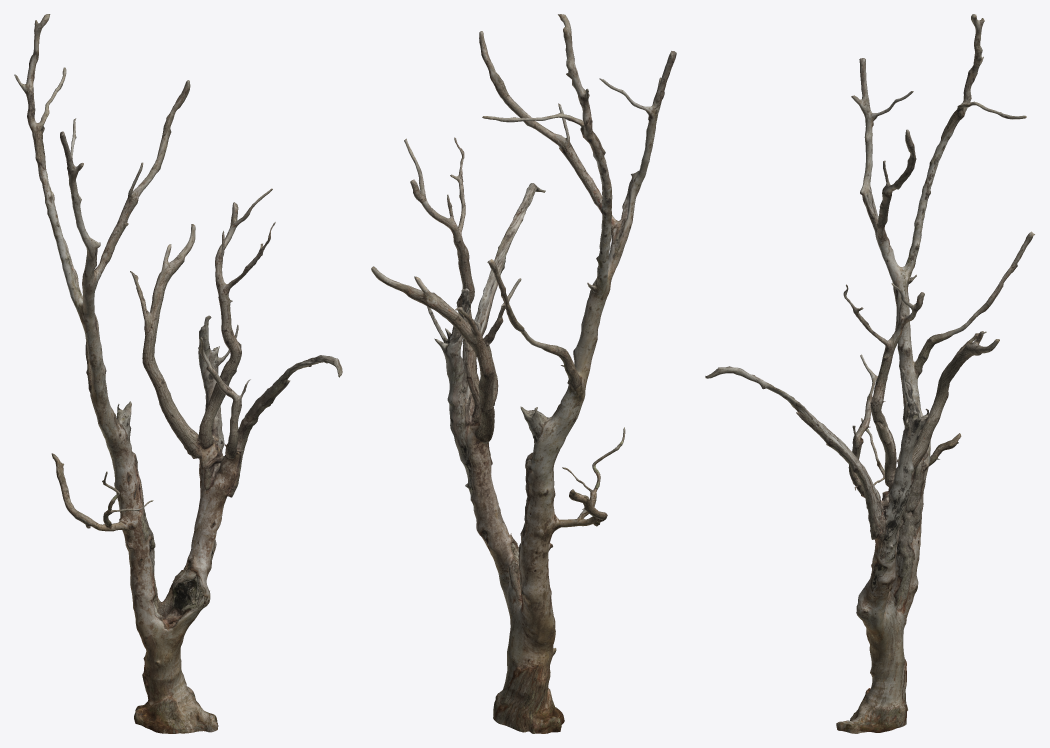
Rendered from tree_01.fbx.
The picture shows the model from 3 angles, left to right: view 1: azimuth 30°, elevation 25°; view 2: azimuth 150°, elevation 25°; view 3: azimuth 270°, elevation 25°; orthographic projection. The views are drawn at different scales.
Visible parts, largest first — view 1: Aset_tree_stump_L_qlEtl_LOD0; view 2: Aset_tree_stump_L_qlEtl_LOD0; view 3: Aset_tree_stump_L_qlEtl_LOD0.
Part boxes in pixels (<box>): Aset_tree_stump_L_qlEtl_LOD0: <box>14,14,342,733</box>; Aset_tree_stump_L_qlEtl_LOD0: <box>371,14,676,733</box>; Aset_tree_stump_L_qlEtl_LOD0: <box>705,14,1034,733</box>.
Size of the model in its own units: 215 by 621 by 277.
